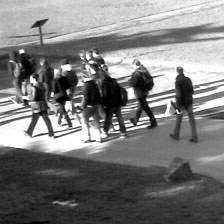person: (169, 65, 199, 143), (128, 58, 158, 130), (98, 69, 128, 140), (25, 74, 54, 139), (80, 70, 101, 143), (51, 68, 72, 130), (6, 50, 21, 106), (19, 49, 34, 96), (59, 59, 76, 100), (37, 59, 50, 104), (91, 47, 106, 71), (78, 49, 90, 69), (85, 51, 95, 72)
